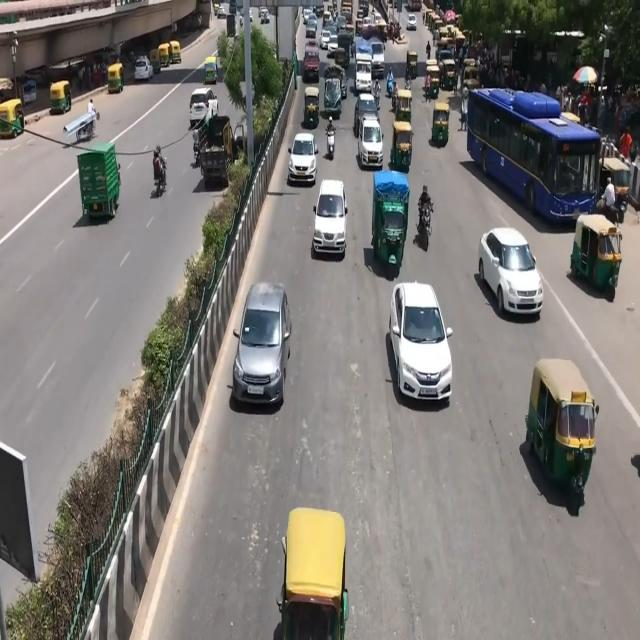Bike: (416, 187, 440, 253)
